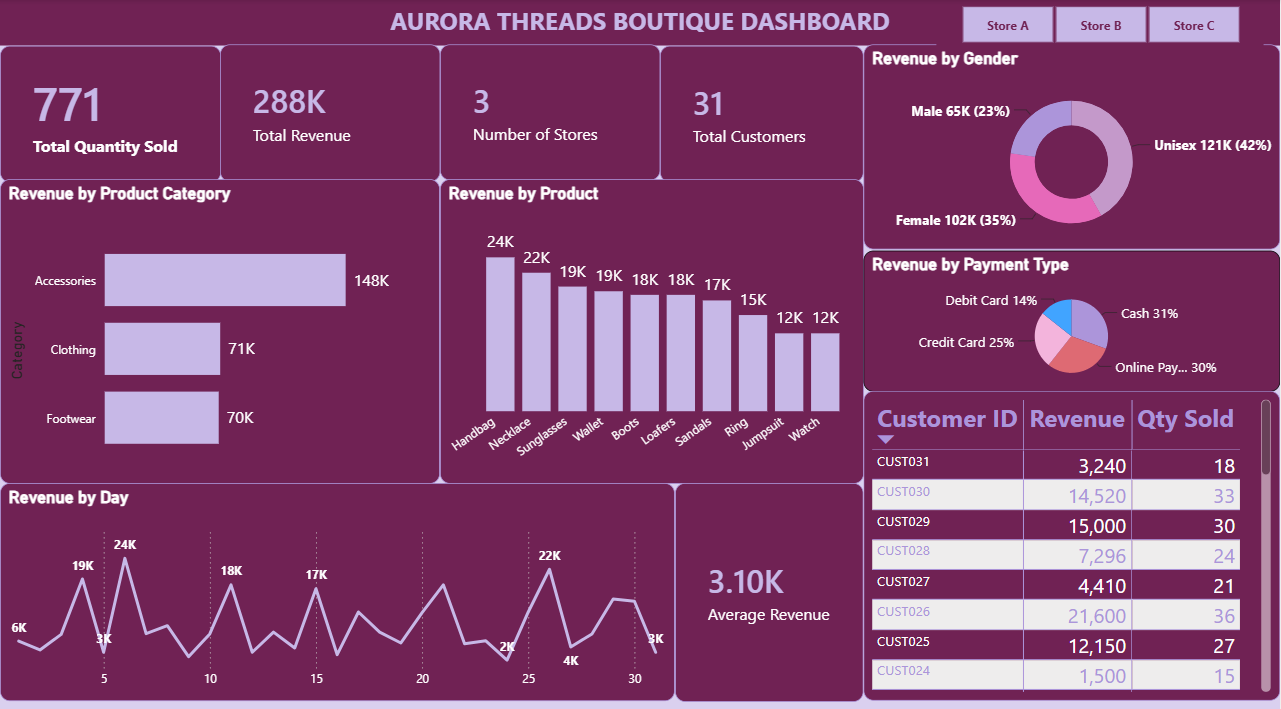

The dashboard page shown, as its layout file describes it:
{"tool":"powerbi","page":{"name":"Aurora Report","canvas":[1280,720],"ordinal":0},"visuals":[{"type":"textbox","box":[0,0,1280.4,46.8],"z":0},{"type":"cardVisual","fields":{"Data":["Sum(AuroraData (2).Quantity)"]},"box":[0,46.8,220.7,136.6],"z":1000},{"type":"cardVisual","fields":{"Data":["Sum(AuroraData (2).Revenue)"]},"box":[220.1,45.9,220.1,137.6],"z":2000},{"type":"cardVisual","fields":{"Data":["Count(AuroraData (2).Store)"]},"box":[440.3,45.9,220.1,135.7],"z":3000},{"type":"cardVisual","fields":{"Data":["Count(AuroraData (2).Customer ID)"]},"box":[660.4,46.8,203.9,136.6],"z":4000},{"type":"clusteredBarChart","title":"Revenue by Product Category","fields":{"Y":["Sum(AuroraData (2).Revenue)"],"Category":["AuroraData (2).Category"]},"box":[0,179.8,440.3,304.5],"z":5000},{"type":"clusteredColumnChart","title":"Revenue by Product","fields":{"Y":["Sum(AuroraData (2).Revenue)"],"Category":["AuroraData (2).Product"]},"box":[440.3,179.8,423.7,304.5],"z":6000},{"type":"lineChart","title":"Revenue by Day","fields":{"Category":["AuroraData (2).Date.Variation.Date Hierarchy.Day"],"Y":["Sum(AuroraData (2).Revenue)"]},"box":[0,484.3,675.1,218.3],"z":7000},{"type":"donutChart","title":"Revenue by Gender","fields":{"Category":["AuroraData (2).Gender"],"Y":["Sum(AuroraData (2).Revenue)"]},"box":[864,45.9,416.4,205.5],"z":8000},{"type":"pieChart","title":"Revenue by Payment Type","fields":{"Y":["Sum(AuroraData (2).Revenue)"],"Category":["AuroraData (2).Payment Type"]},"box":[864,251.3,416.4,141.2],"z":9000},{"type":"pivotTable","fields":{"Rows":["AuroraData (2).Customer ID"],"Values":["Sum(AuroraData (2).Revenue)","Sum(AuroraData (2).Quantity)"]},"box":[864,392.6,416.4,310],"z":10000},{"type":"slicer","fields":{"Values":["AuroraData (2).Store"]},"box":[937.2,0,327.4,50.5],"z":11000},{"type":"cardVisual","fields":{"Data":["AuroraData (2).Average Revenue"]},"box":[675.3,484.1,188.4,218.7],"z":12000}]}

Visuals, with their boxes in screenshot pixels (x1, y1, x2, y2), scaled from the page's 1280x720 canvas onto the 1281x709 screenshot:
textbox: 0 0 1280 46
cardVisual - Sum(AuroraData (2).Quantity): 0 46 221 181
cardVisual - Sum(AuroraData (2).Revenue): 220 45 441 181
cardVisual - Count(AuroraData (2).Store): 441 45 661 179
cardVisual - Count(AuroraData (2).Customer ID): 661 46 865 181
"Revenue by Product Category" clusteredBarChart: 0 177 441 477
"Revenue by Product" clusteredColumnChart: 441 177 865 477
"Revenue by Day" lineChart: 0 477 676 692
"Revenue by Gender" donutChart: 865 45 1280 248
"Revenue by Payment Type" pieChart: 865 247 1280 387
pivotTable - AuroraData (2).Customer ID x Sum(AuroraData (2).Revenue): 865 387 1280 692
slicer - AuroraData (2).Store: 938 0 1266 50
cardVisual - AuroraData (2).Average Revenue: 676 477 864 692
